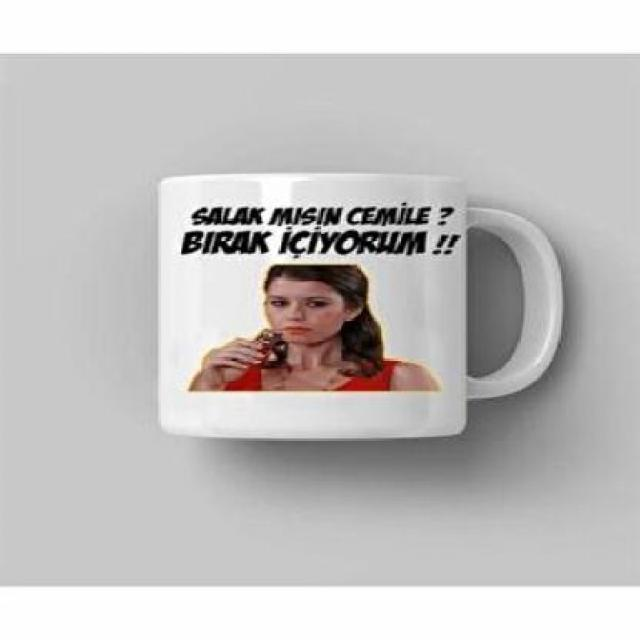taza: (145, 144, 578, 448)
